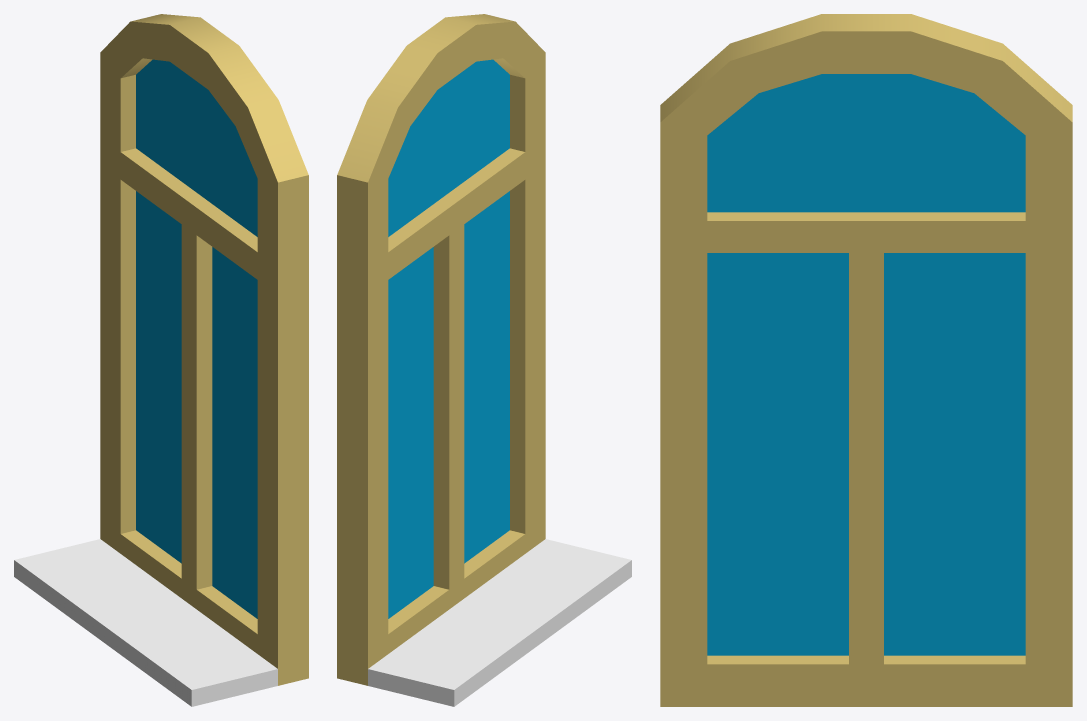
The model's file is Window_02_Mesh.fbx.
3 renders of one model, left to right at view 1: azimuth 30°, elevation 25°; view 2: azimuth 150°, elevation 25°; view 3: azimuth 270°, elevation 25°, orthographic. The views are drawn at different scales.
Parts seen in each view (by area): view 1: Window_02; view 2: Window_02; view 3: Window_02.
Boxes of the visible parts, x1,y1,x2,y2 form: Window_02: (14, 14, 308, 706); Window_02: (337, 14, 631, 706); Window_02: (660, 14, 1072, 706).
Size of the model in its own units: 66.56 by 316 by 175.
